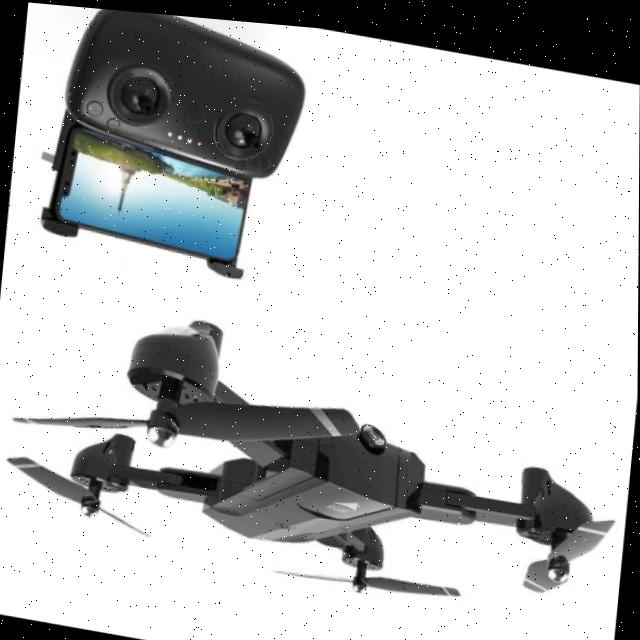drones: (0, 268, 638, 640)
